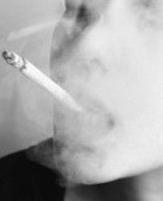smoke: (1, 49, 78, 110)
